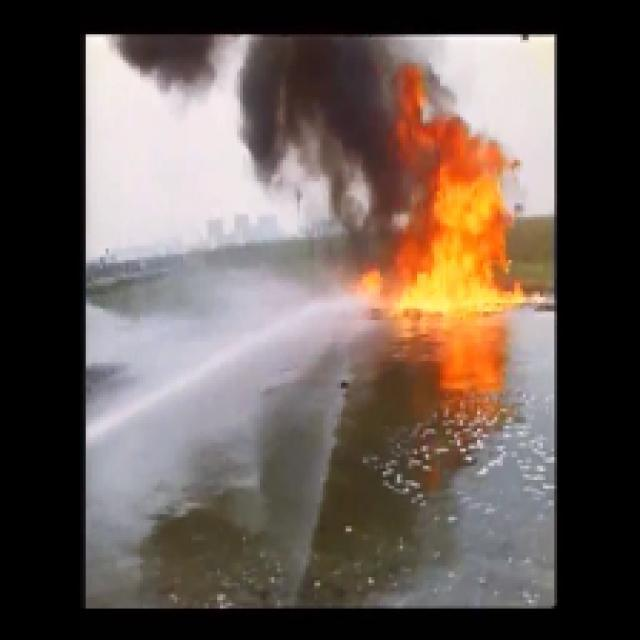Fire: (428, 150, 506, 320)
Smoke: (252, 39, 392, 172)
